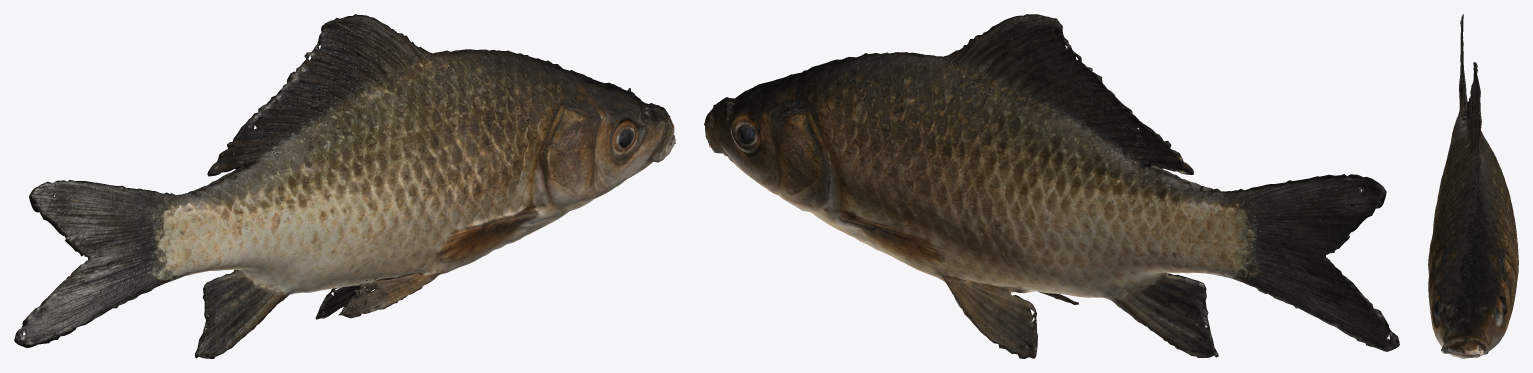
Rendered from silver-crucian.glb.
The picture shows the model from 3 angles, left to right: view 1: azimuth 30°, elevation 25°; view 2: azimuth 150°, elevation 25°; view 3: azimuth 270°, elevation 25°; orthographic projection. The views are drawn at different scales.
Parts seen in each view (by area): view 1: Silver_crucian_scan; view 2: Silver_crucian_scan; view 3: Silver_crucian_scan.
Boxes of the visible parts, x1,y1,x2,y2 form: Silver_crucian_scan: (14,14,675,358); Silver_crucian_scan: (704,14,1399,358); Silver_crucian_scan: (1428,14,1518,358).
Bounding box in the file's own units: 0.18 × 0.0822 × 0.0262.
Materials: 1 (1 with a texture image).
